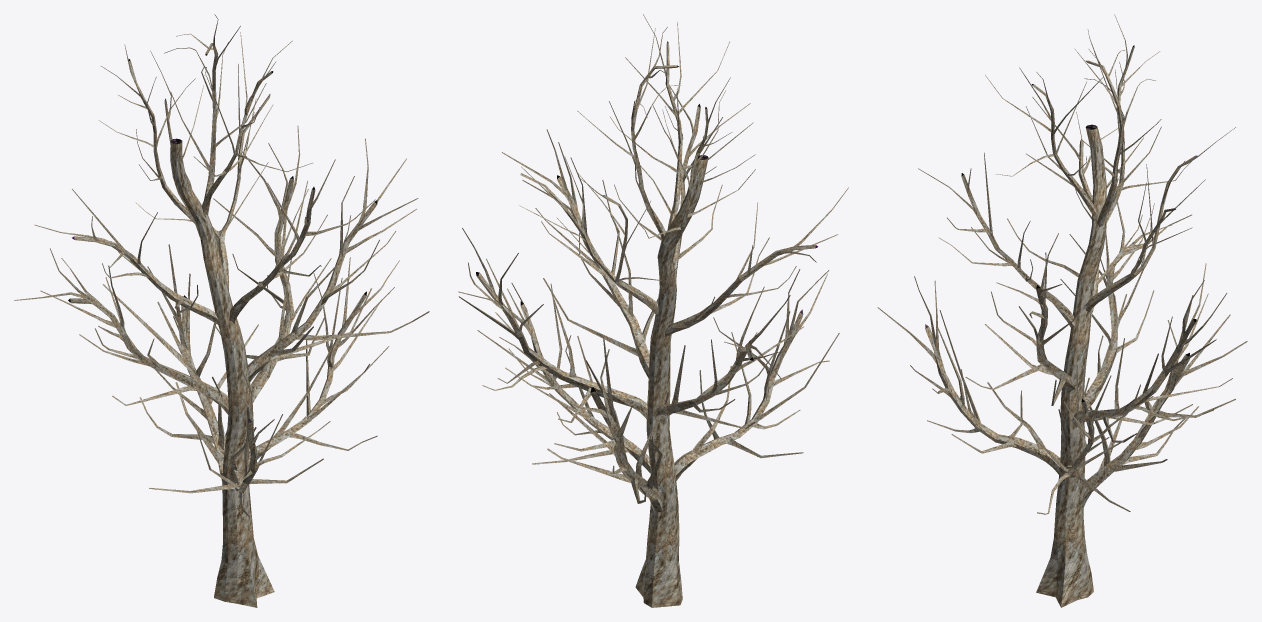
The model's file is plane-b-winter.fbx.
3 views of the same model, side by side, from view 1: azimuth 30°, elevation 25°; view 2: azimuth 150°, elevation 25°; view 3: azimuth 270°, elevation 25° (orthographic). The views are drawn at different scales.
Visible parts, largest first — view 1: PlaneUK_b.001; view 2: PlaneUK_b.001; view 3: PlaneUK_b.001.
Boxes of the visible parts, x1=… form: PlaneUK_b.001: x1=14, y1=14, x2=429, y2=607; PlaneUK_b.001: x1=458, y1=14, x2=848, y2=607; PlaneUK_b.001: x1=877, y1=14, x2=1247, y2=607.
Bounding box in the file's own units: 782 × 1197 × 720.
